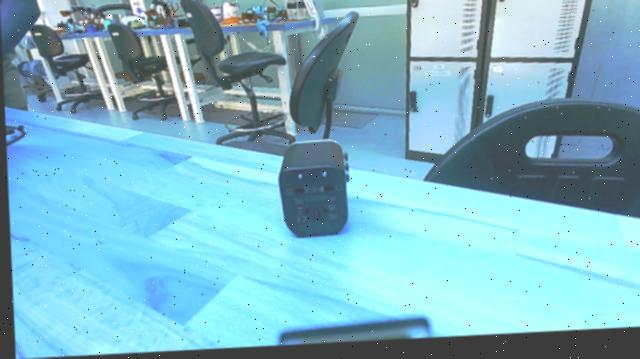adapter: (274, 137, 354, 246)
